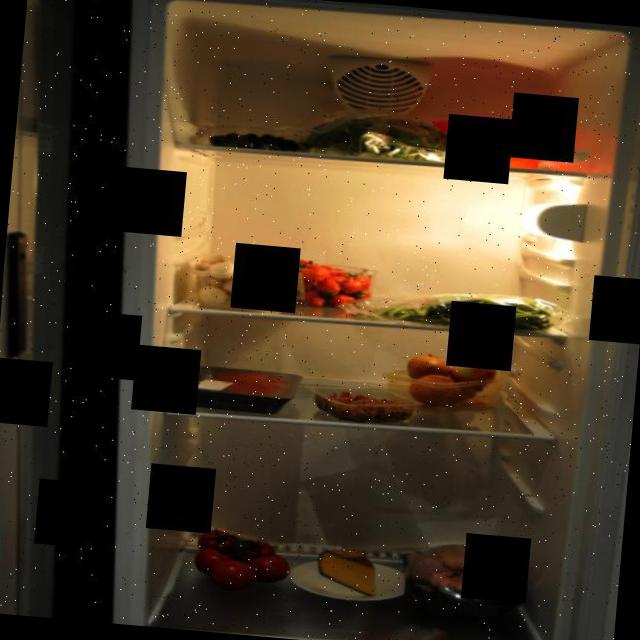Carne pollo: (395, 534, 529, 622)
Carne vacuno: (191, 366, 280, 404)
Cebolla: (402, 346, 498, 408)
Champiñones: (178, 248, 290, 312)
Gambas/Langostinos: (308, 382, 419, 428)
Mantequilla: (441, 116, 556, 171)
Queso: (315, 540, 384, 600)
Tomate: (189, 524, 294, 598)
blueberries: (203, 118, 299, 158)
green_beans: (368, 280, 568, 340)
spinach: (301, 106, 502, 170)
strawberries: (274, 252, 378, 315)
